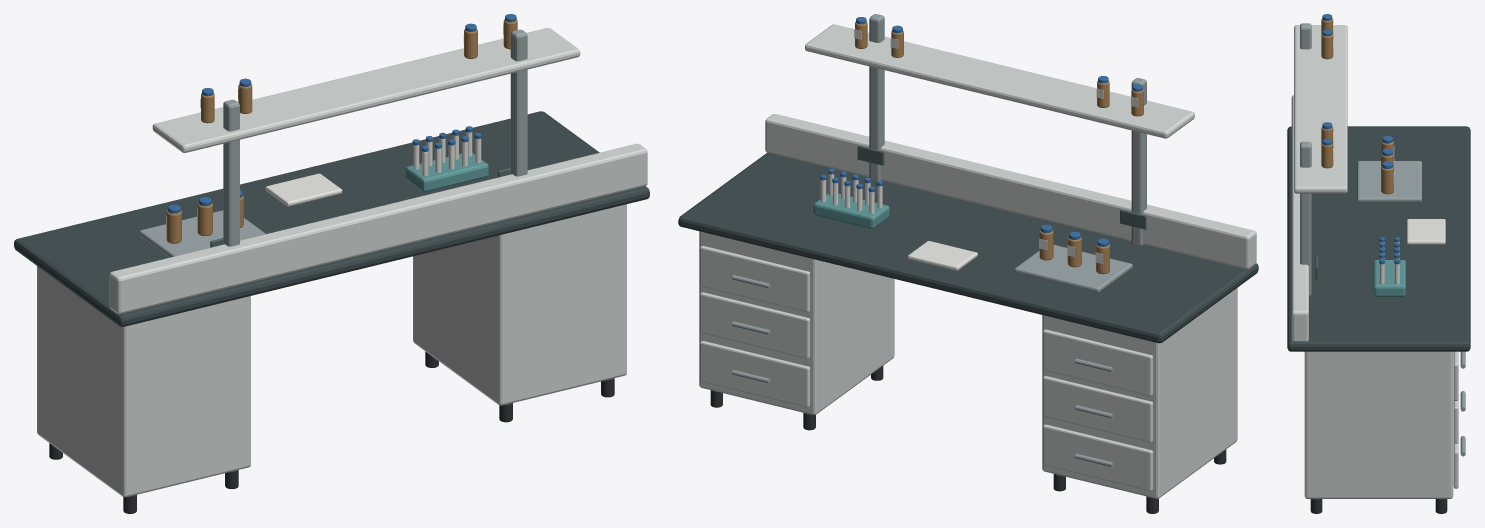
Rendered from LabBench.fbx.
3 renders of one model, left to right at view 1: azimuth 30°, elevation 25°; view 2: azimuth 150°, elevation 25°; view 3: azimuth 270°, elevation 25°, orthographic. The views are drawn at different scales.
Visible parts, largest first — view 1: LabBench; view 2: LabBench; view 3: LabBench.
Part boxes in pixels (x1,y1,x2,y2): LabBench: (14,14,649,513); LabBench: (678,14,1258,513); LabBench: (1287,14,1470,513).
Bounding box in the file's own units: 240 × 171 × 85.
